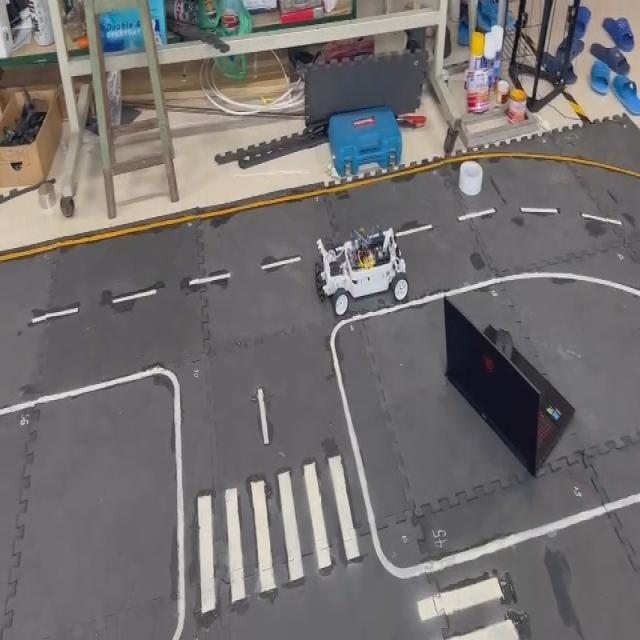SiCo-CAR: (313, 223, 409, 316)
